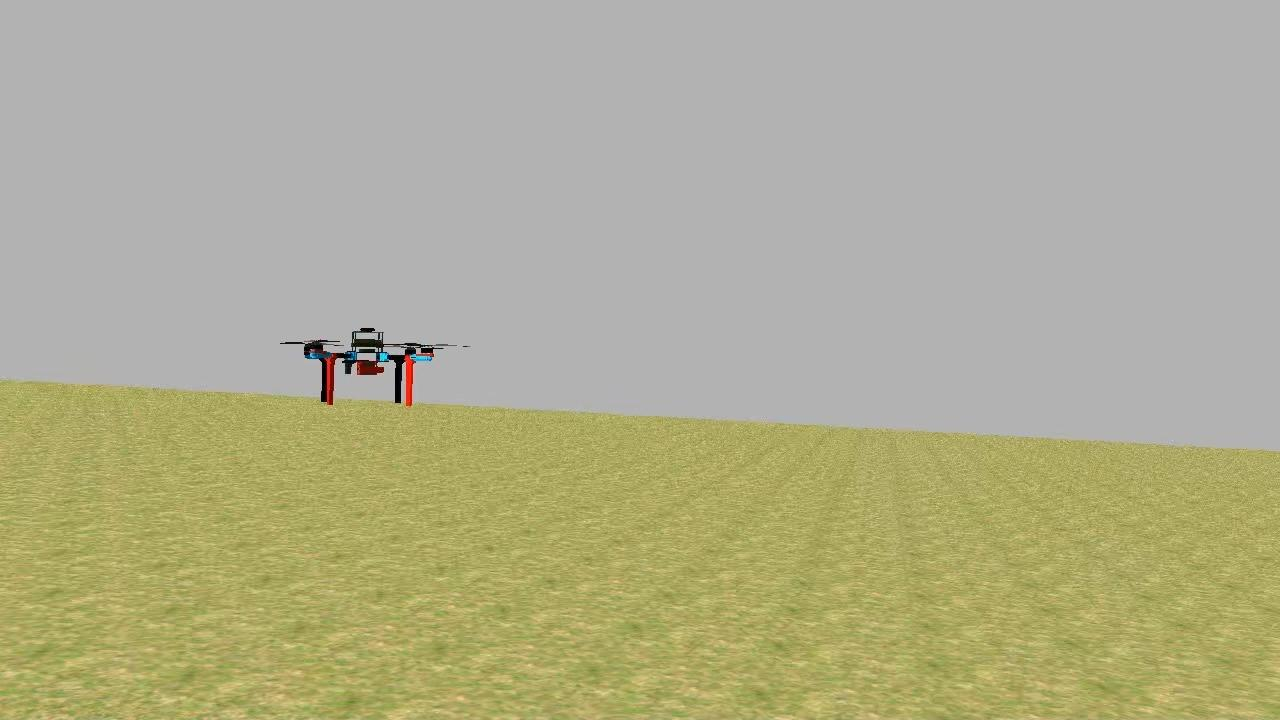UAV: (298, 322, 440, 410)
